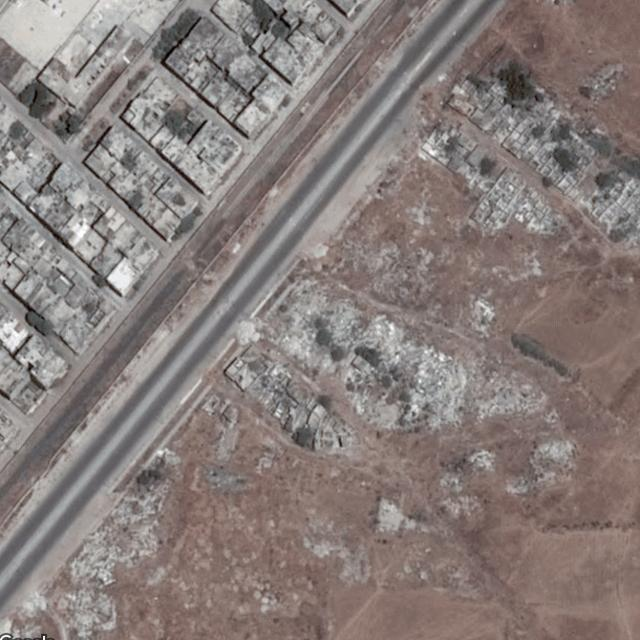damaged_building: (238, 274, 470, 435)
